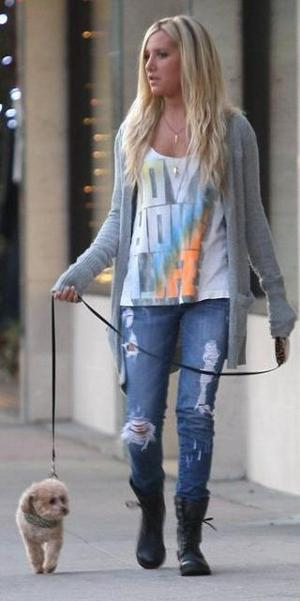person: (52, 17, 293, 573)
